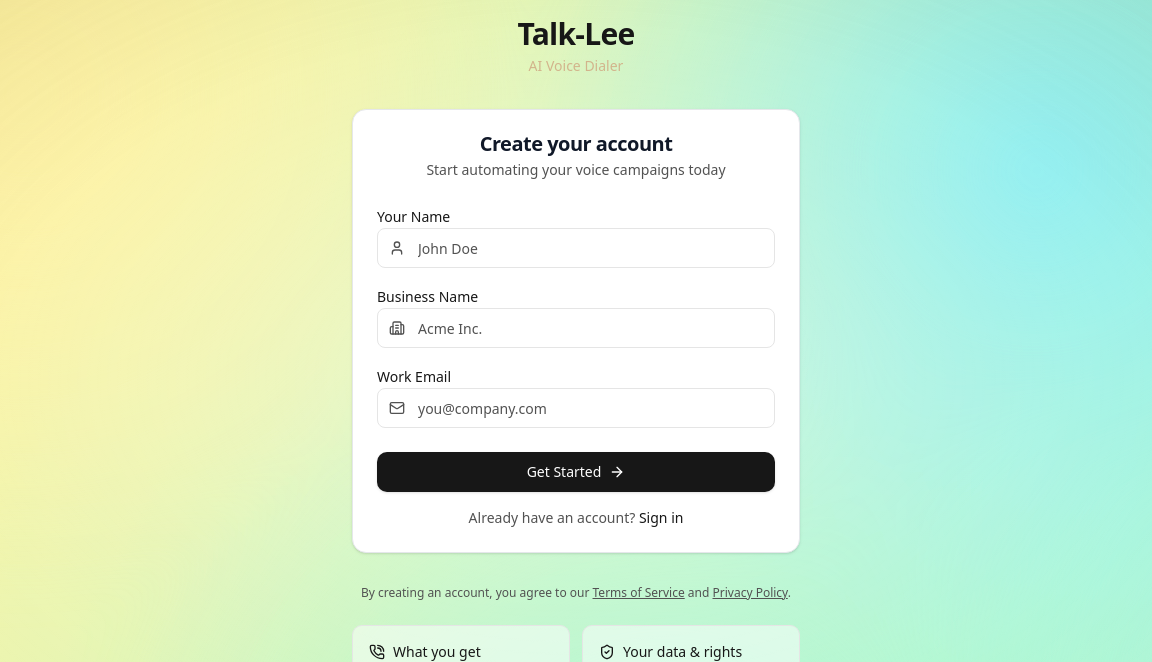
failed delivery and duplicate signup stay on the account form and permit retry
The width and height of the screenshot is (1152, 662).
Type "Person" into the field labelled "Your Name" at (576, 248), box x1=377 y1=228 x2=775 y2=268
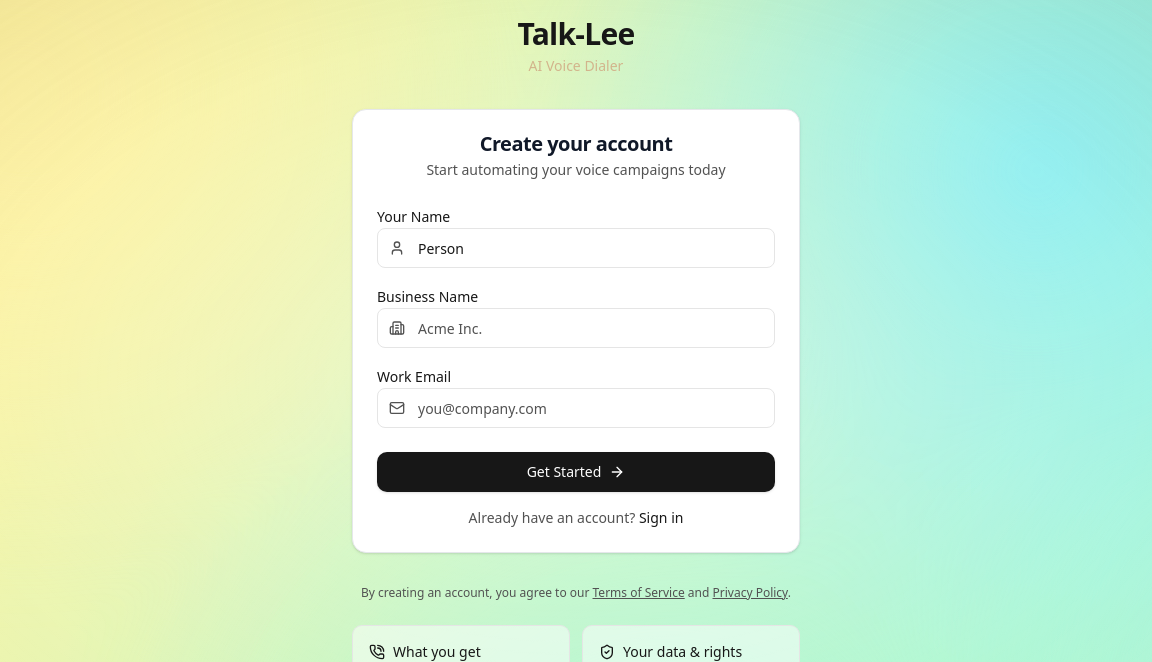
Type "Example Company" into the field labelled "Business Name" at (576, 328), box x1=377 y1=308 x2=775 y2=348
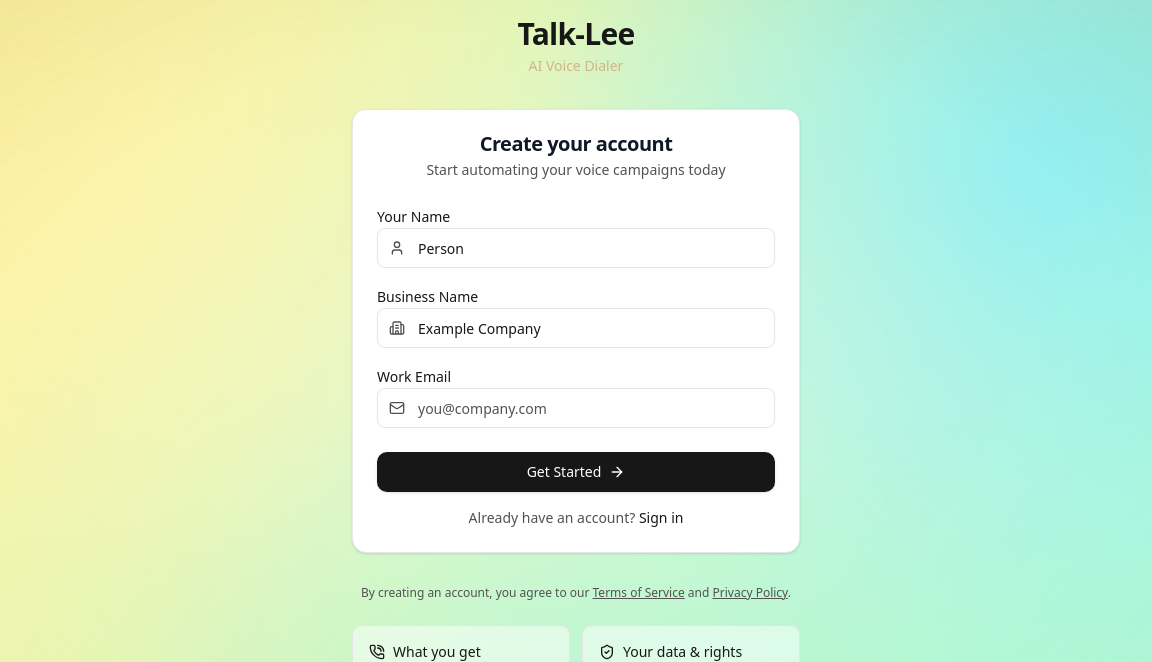
Type "Person@example.test" into the field labelled "Work Email" at (576, 408), box x1=377 y1=388 x2=775 y2=428
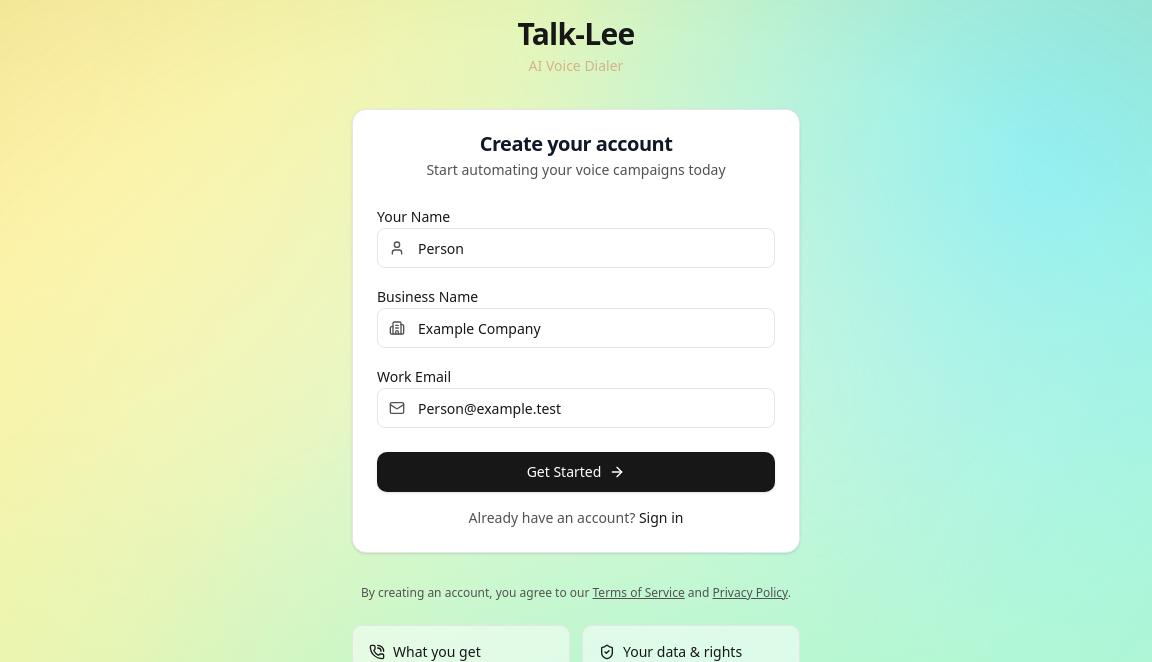
Click the button "Get Started" at (576, 472), box x1=377 y1=452 x2=775 y2=492
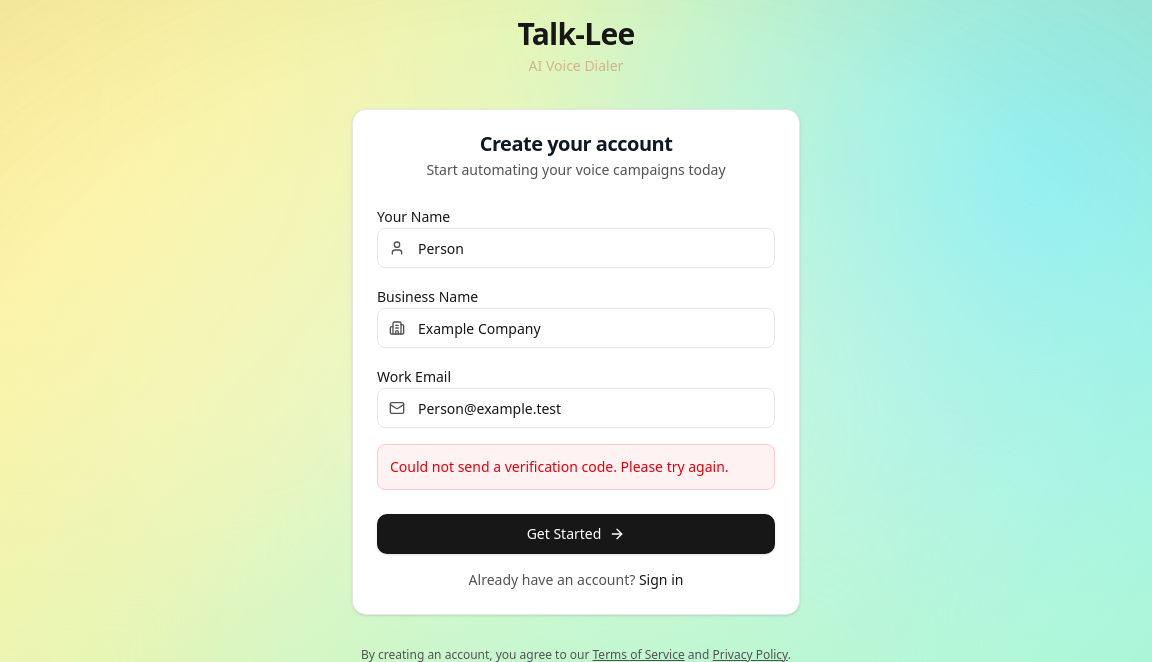
Check: the message shows "Could not send", box x1=390 y1=457 x2=729 y2=476
Click the button "Get Started" at (576, 534), box x1=377 y1=514 x2=775 y2=554
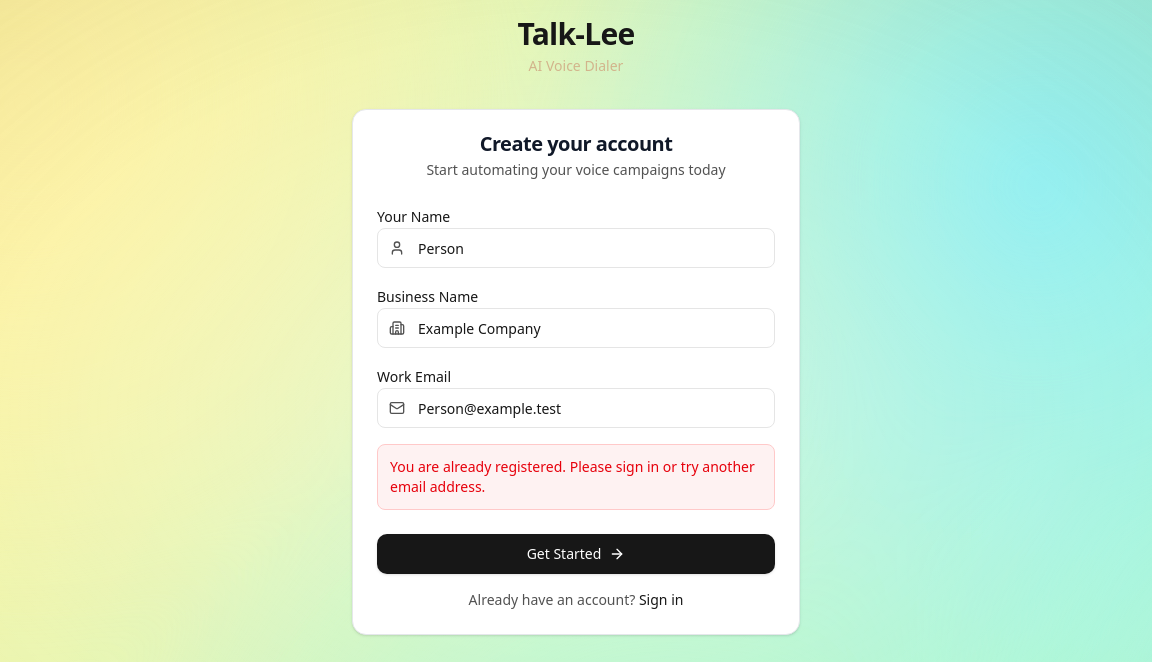
Check: the message shows "already registered", box x1=390 y1=457 x2=755 y2=496
Click the button "Get Started" at (576, 554), box x1=377 y1=534 x2=775 y2=574
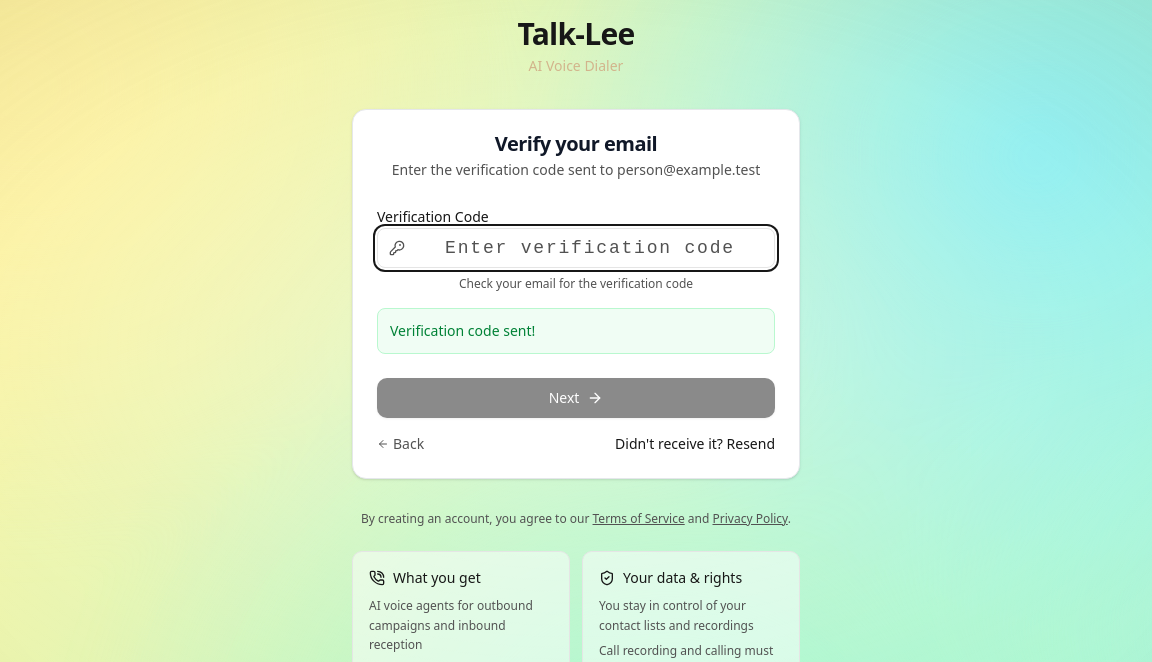
Check: the field labelled "Verification Code" is shown, box x1=377 y1=228 x2=775 y2=268
Check: the text "Enter the verification code sent to person@example.test" is shown, box x1=377 y1=160 x2=775 y2=180
